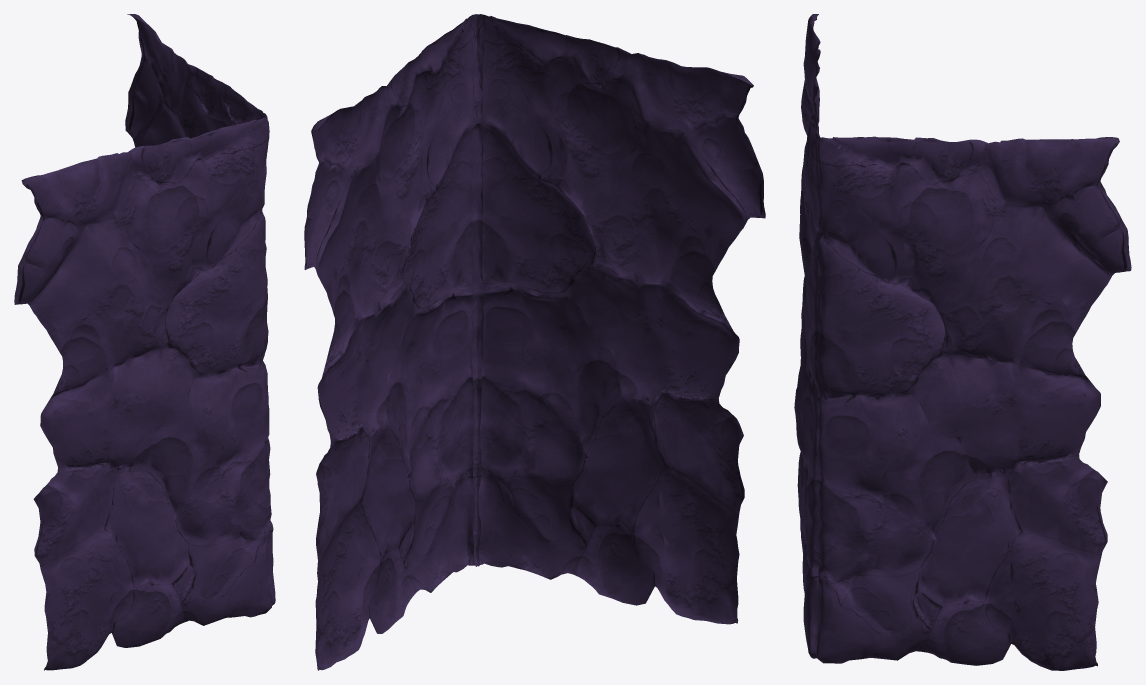
The model's file is RockWall_CornerStraight.FBX.
The picture shows the model from 3 angles, left to right: view 1: azimuth 30°, elevation 25°; view 2: azimuth 150°, elevation 25°; view 3: azimuth 270°, elevation 25°; orthographic projection. The views are drawn at different scales.
Parts seen in each view (by area): view 1: RockWall_Corner; view 2: RockWall_Corner; view 3: RockWall_Corner.
Boxes of the visible parts, box(x1,y1,x2,y2) form: RockWall_Corner: box(14, 14, 275, 670); RockWall_Corner: box(304, 14, 765, 670); RockWall_Corner: box(794, 14, 1131, 670).
Bounding box in the file's own units: 1.96 × 3.4 × 1.95.
Materials: 1 (1 with a texture image).
